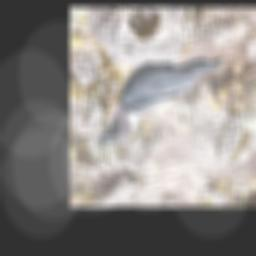Crow: (98, 55, 225, 145)
